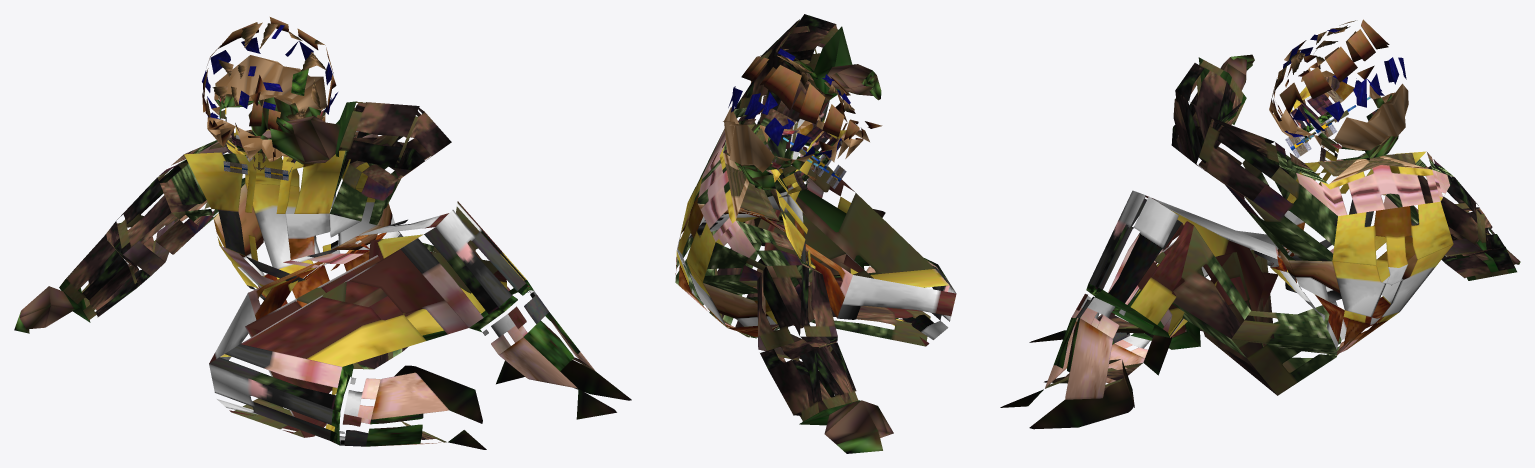
3 views of the same model, side by side, from view 1: azimuth 30°, elevation 25°; view 2: azimuth 150°, elevation 25°; view 3: azimuth 270°, elevation 25° (orthographic). The views are drawn at different scales.
Visible parts, largest first — view 1: T1L2M009_6; view 2: T1L2M009_6; view 3: T1L2M009_6.
Part boxes in pixels (box(x1,y1,x2,y2)): T1L2M009_6: box(14, 17, 631, 449); T1L2M009_6: box(675, 14, 956, 453); T1L2M009_6: box(1000, 19, 1520, 429).
Size of the model in its own units: 0.8438 by 0.7338 by 1.01.
